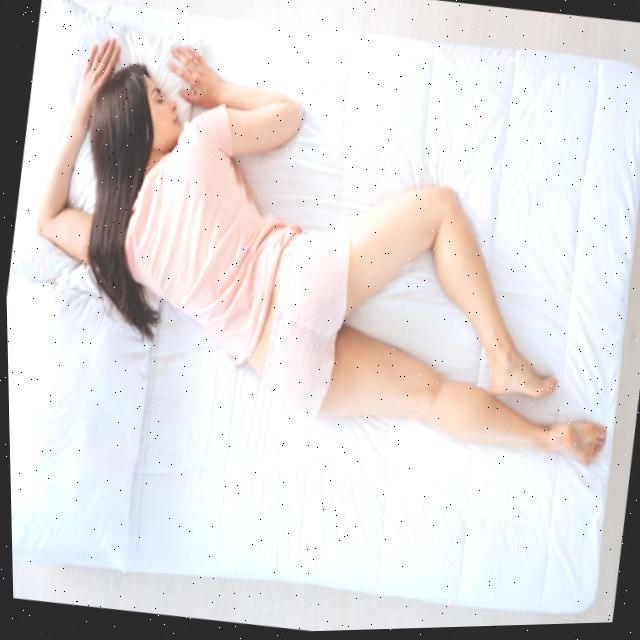sleeping-person: (0, 0, 640, 495)
